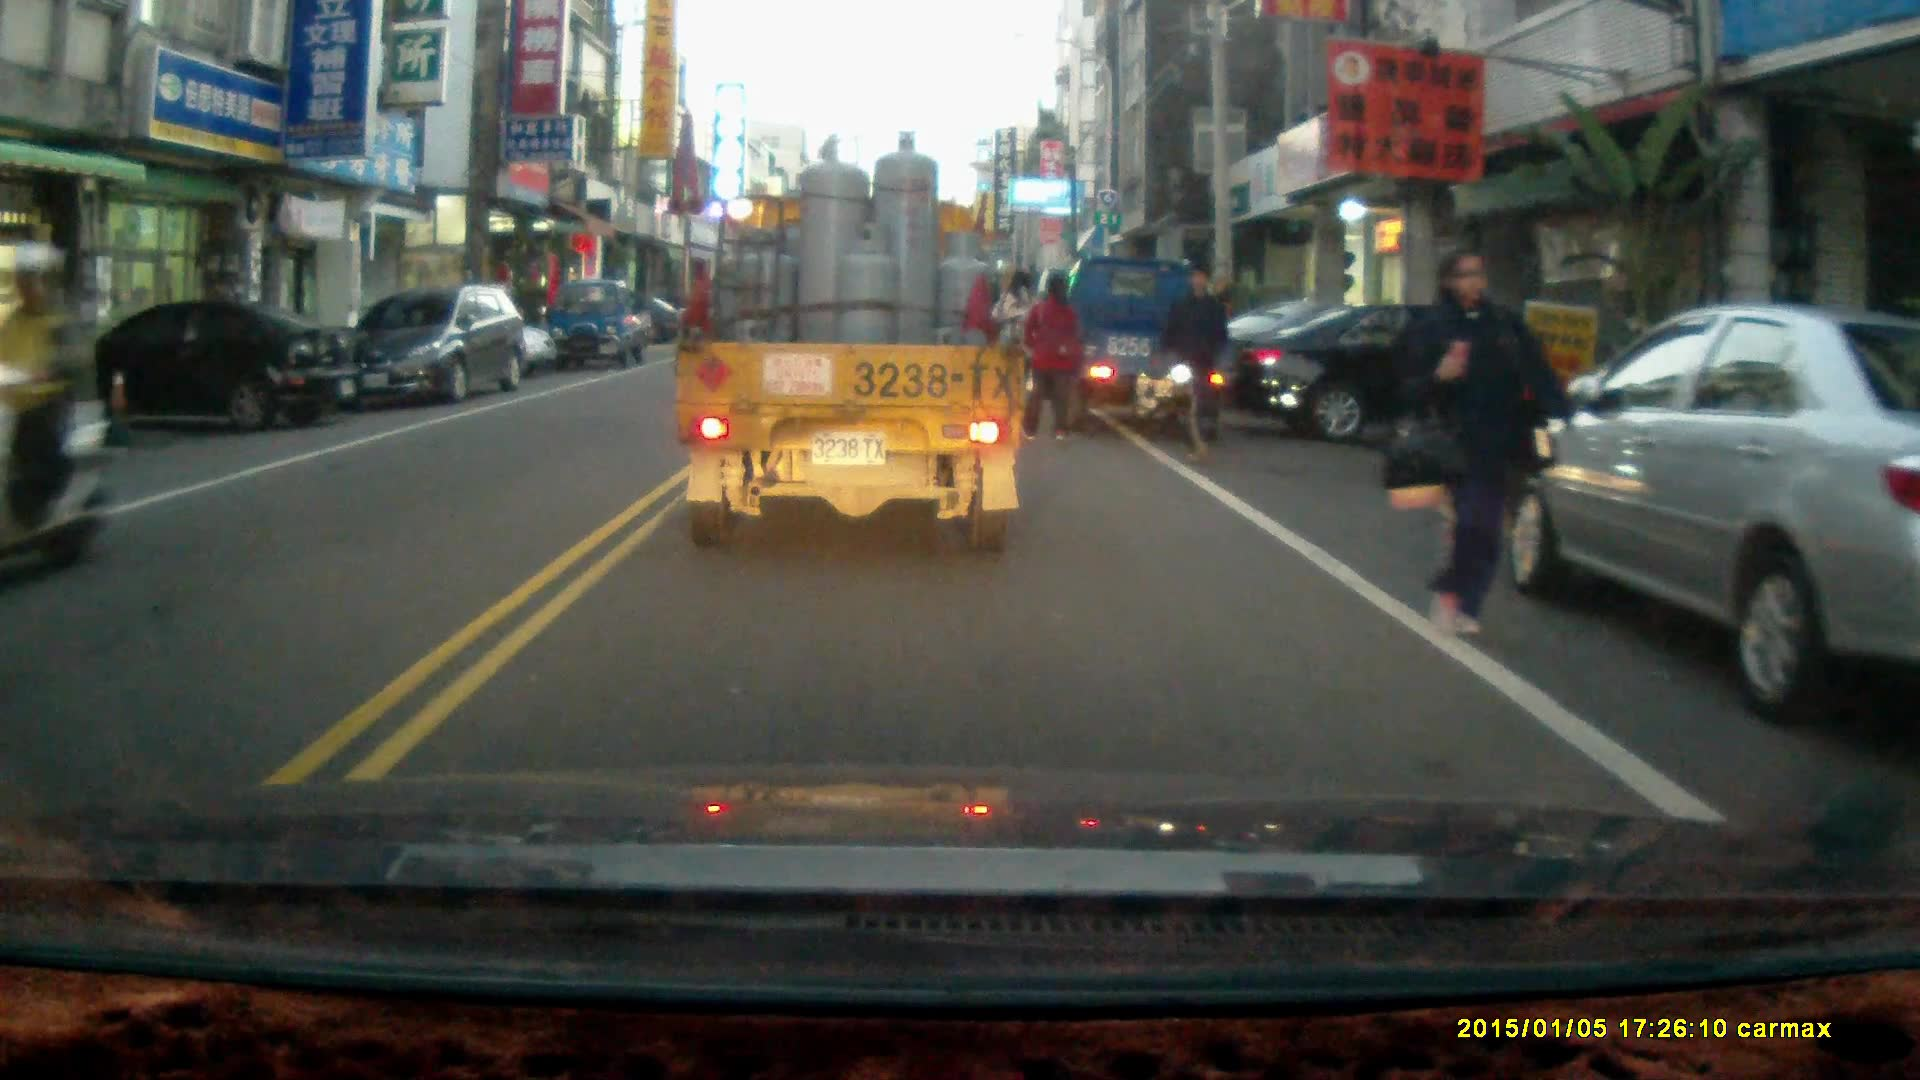pedestrian: (1398, 242, 1576, 646), (1157, 265, 1222, 467), (1019, 272, 1077, 448)
rider: (0, 241, 111, 589)
vehicle: (1480, 306, 1920, 729), (675, 130, 1034, 560), (1218, 299, 1556, 467), (9, 301, 360, 439), (1054, 260, 1253, 446), (339, 289, 534, 413), (548, 279, 655, 374)
